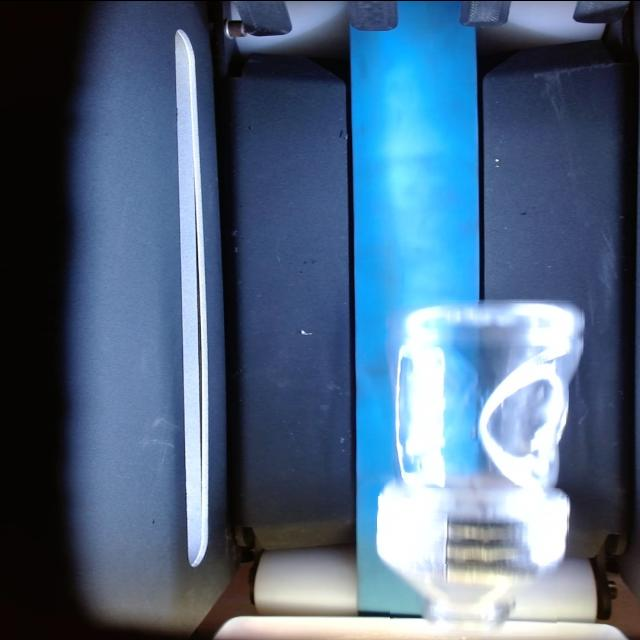bottom: (396, 301, 582, 486)
label: (378, 495, 568, 575)
neck: (391, 563, 557, 634)
